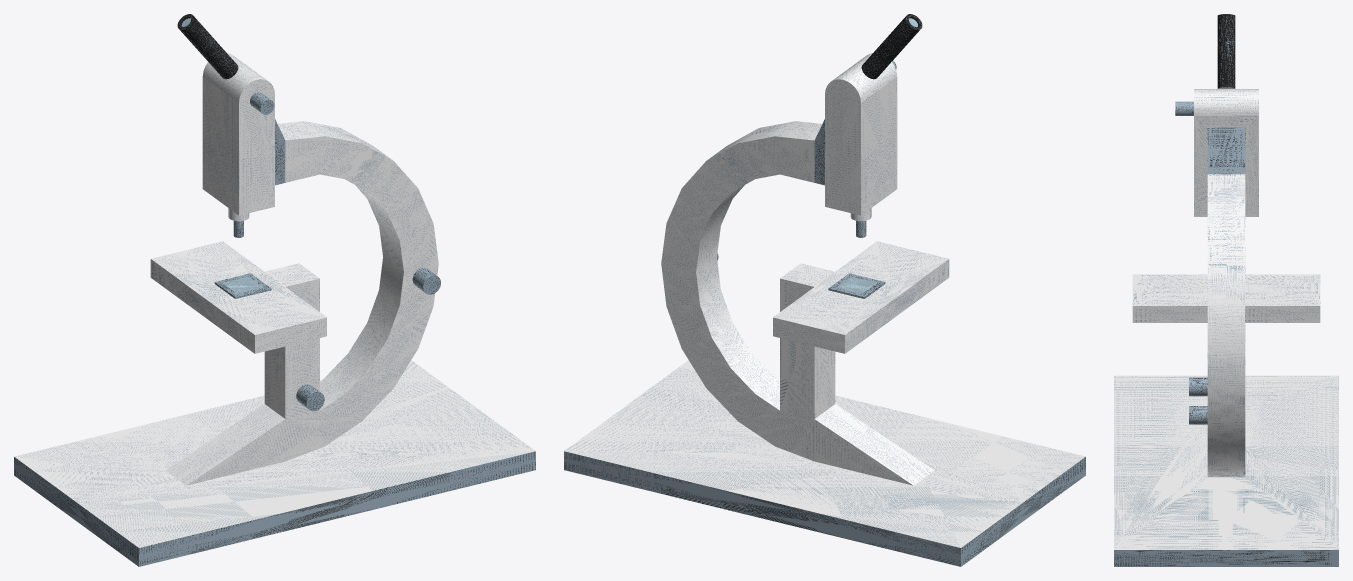
The model's file is microscope.fbx.
The picture shows the model from 3 angles, left to right: view 1: azimuth 30°, elevation 25°; view 2: azimuth 150°, elevation 25°; view 3: azimuth 270°, elevation 25°; orthographic projection. The views are drawn at different scales.
Visible parts, largest first — view 1: Group2, Group1; view 2: Group2, Group1; view 3: Group2, Group1.
Boxes of the visible parts, x1=… form: Group2: x1=14, y1=53, x2=535, y2=566; Group1: x1=177, y1=14, x2=440, y2=411; Group2: x1=564, y1=53, x2=1085, y2=566; Group1: x1=717, y1=14, x2=922, y2=260; Group2: x1=1114, y1=89, x2=1338, y2=566; Group1: x1=1175, y1=14, x2=1235, y2=424.
Size of the model in its own units: 0.22 by 0.2531 by 0.12.
